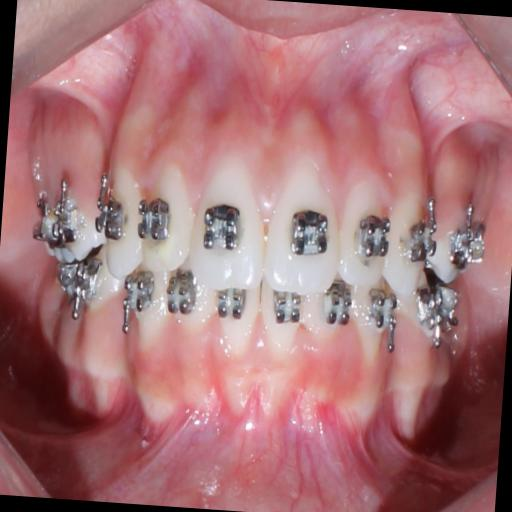correct_brace: (196, 199, 244, 258), (286, 203, 332, 264), (134, 190, 174, 248), (353, 208, 394, 264), (405, 213, 441, 268), (96, 196, 126, 242)
incorrect_brace: (133, 154, 195, 278), (335, 180, 398, 294)
